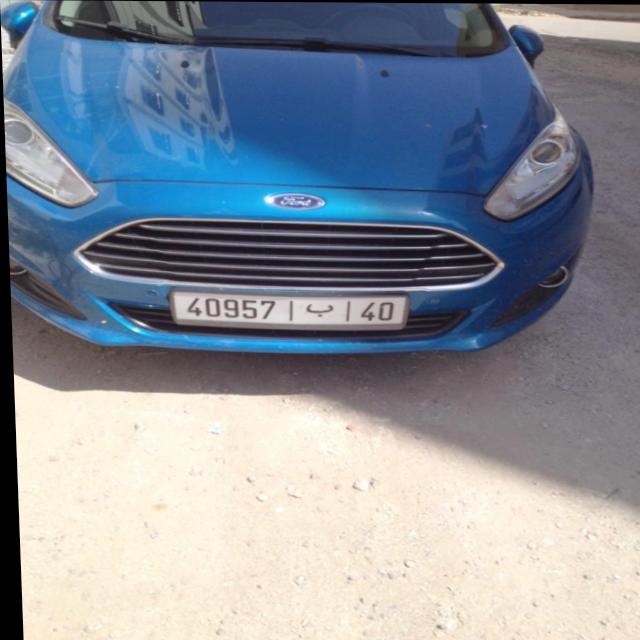License-Plate: (168, 290, 405, 329)
